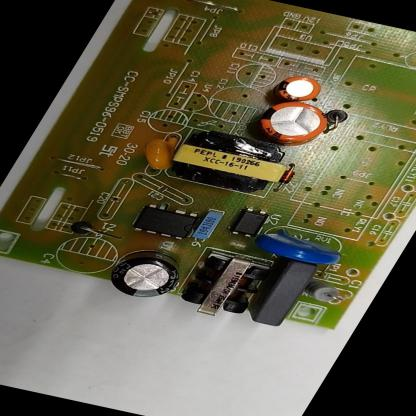Cap1: (250, 97, 335, 151)
Cap2: (272, 71, 326, 104)
Cap3: (104, 245, 191, 303)
MOSFET: (132, 202, 200, 240)
Mov: (253, 227, 347, 268)
Resistor: (165, 128, 298, 198), (302, 279, 350, 306)
Transformer: (178, 251, 272, 321)
